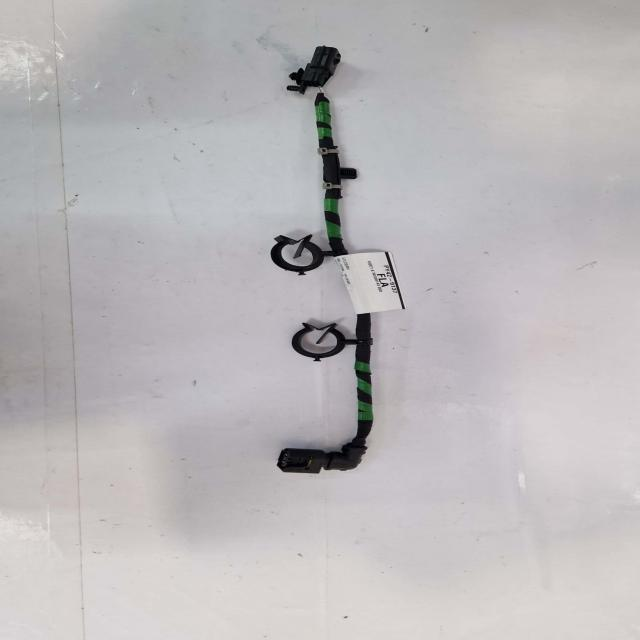AJ20_D6_Cable: (305, 86, 347, 254), (342, 313, 362, 441)
Clip: (281, 319, 363, 357), (260, 230, 324, 270)
Connector: (265, 438, 355, 469), (279, 44, 332, 92)
Info: (325, 246, 398, 309)
strap: (308, 146, 333, 154), (313, 180, 333, 188), (332, 148, 337, 155)
